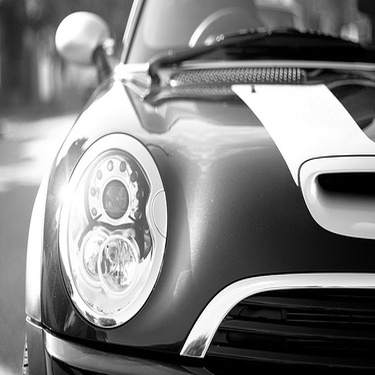car: (1, 17, 370, 369)
